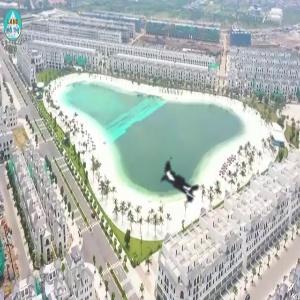drone: (112, 115, 252, 255)
